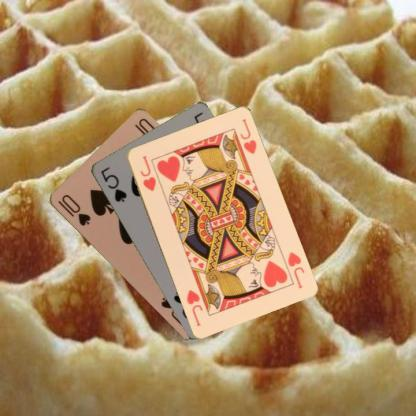10s: (54, 191, 92, 227)
5s: (98, 164, 128, 203)
Jh: (277, 249, 306, 289), (137, 152, 157, 192)
